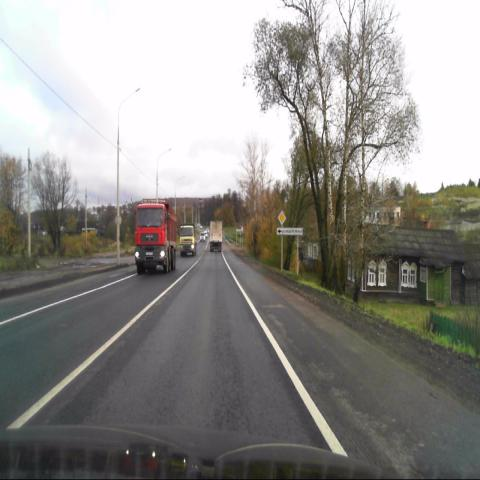2_1: (278, 210, 286, 224)
